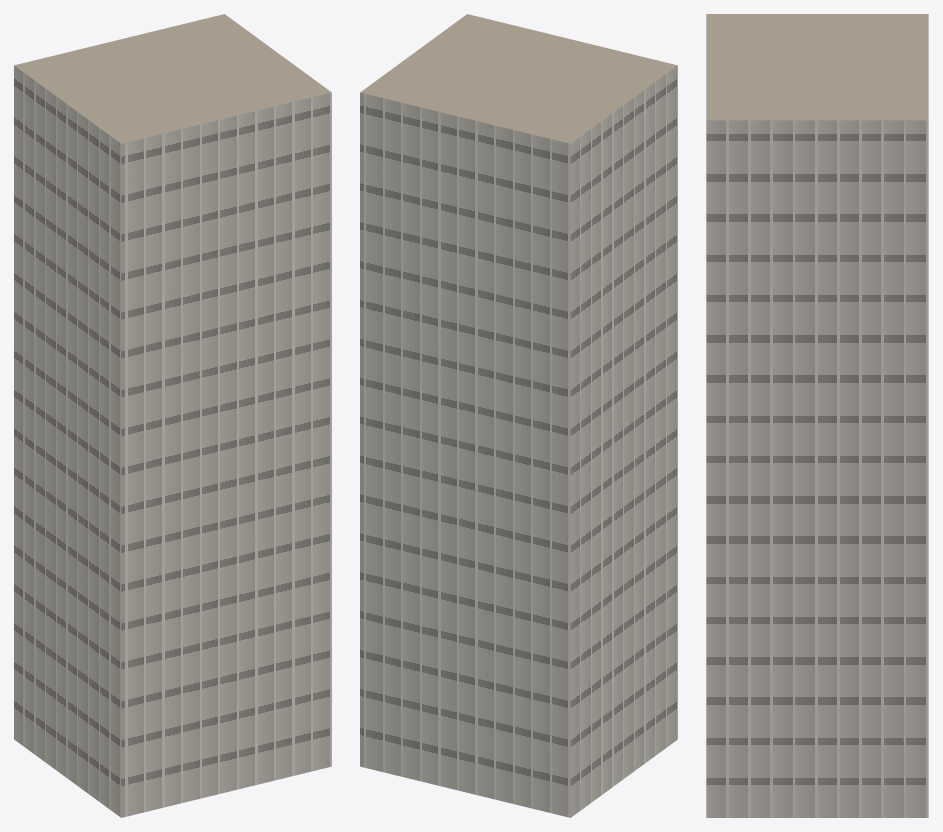
The model's file is tall-tower.glb.
3 renders of one model, left to right at view 1: azimuth 30°, elevation 25°; view 2: azimuth 150°, elevation 25°; view 3: azimuth 270°, elevation 25°, orthographic. The views are drawn at different scales.
Visible parts, largest first — view 1: Tall tower; view 2: Tall tower; view 3: Tall tower.
Part boxes in pixels (<box>): Tall tower: <box>14,14,331,817</box>; Tall tower: <box>360,14,677,817</box>; Tall tower: <box>706,14,928,817</box>.
Size of the model in its own units: 17 by 52 by 15.
Materials: 2 (1 with a texture image).
